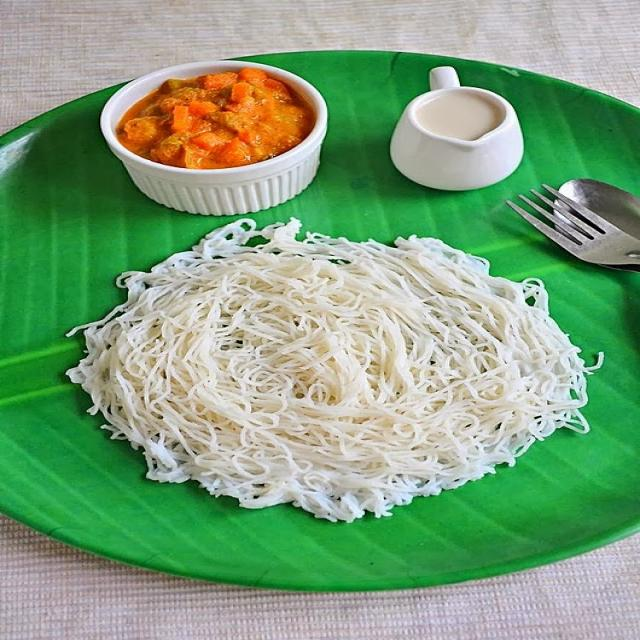IDIYAPPAM: (85, 227, 592, 528), (110, 58, 325, 172)
